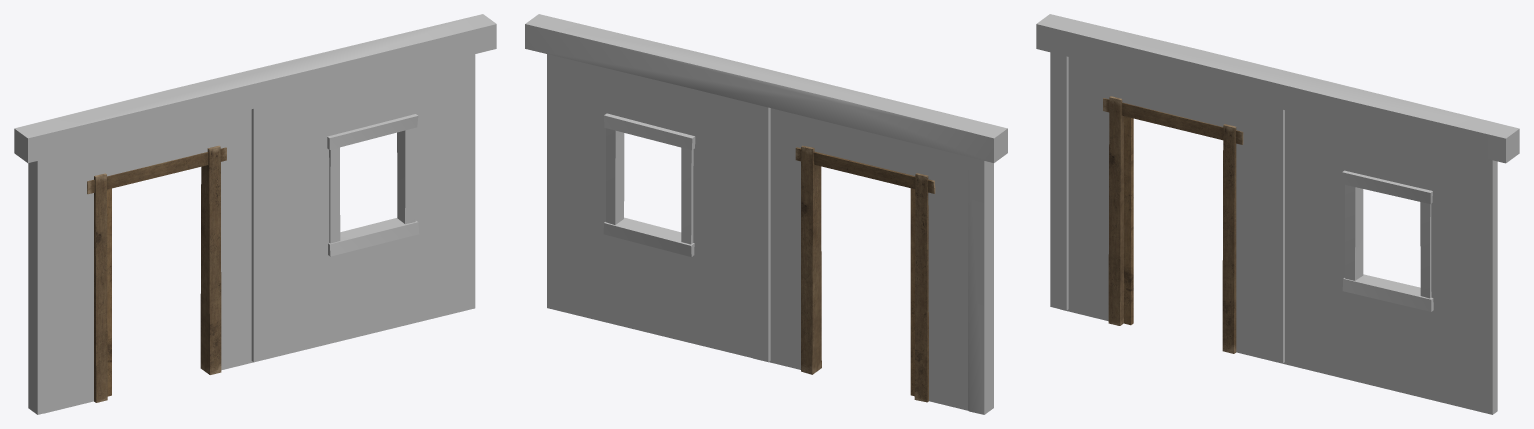
File: SM_WallElement_08_COLL.FBX
3 views of the same model, side by side, from view 1: azimuth 30°, elevation 25°; view 2: azimuth 150°, elevation 25°; view 3: azimuth 330°, elevation 25° (orthographic).
Visible parts, largest first — view 1: SM_WallElement_08_COLL; view 2: SM_WallElement_08_COLL; view 3: SM_WallElement_08_COLL.
Boxes of the visible parts, x1,y1,x2,y2 form: SM_WallElement_08_COLL: (14, 14, 496, 414); SM_WallElement_08_COLL: (525, 14, 1007, 414); SM_WallElement_08_COLL: (1036, 14, 1519, 414).
Bounding box in the file's own units: 5.43 × 3.16 × 0.302.
